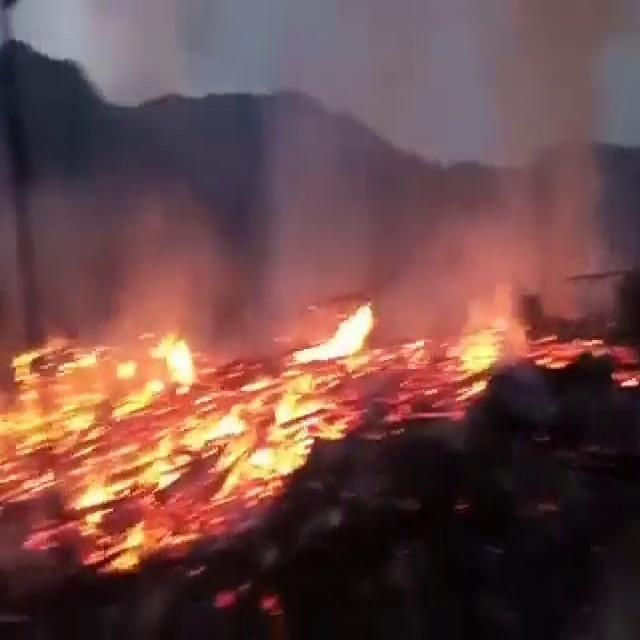Fire: (12, 305, 499, 576)
